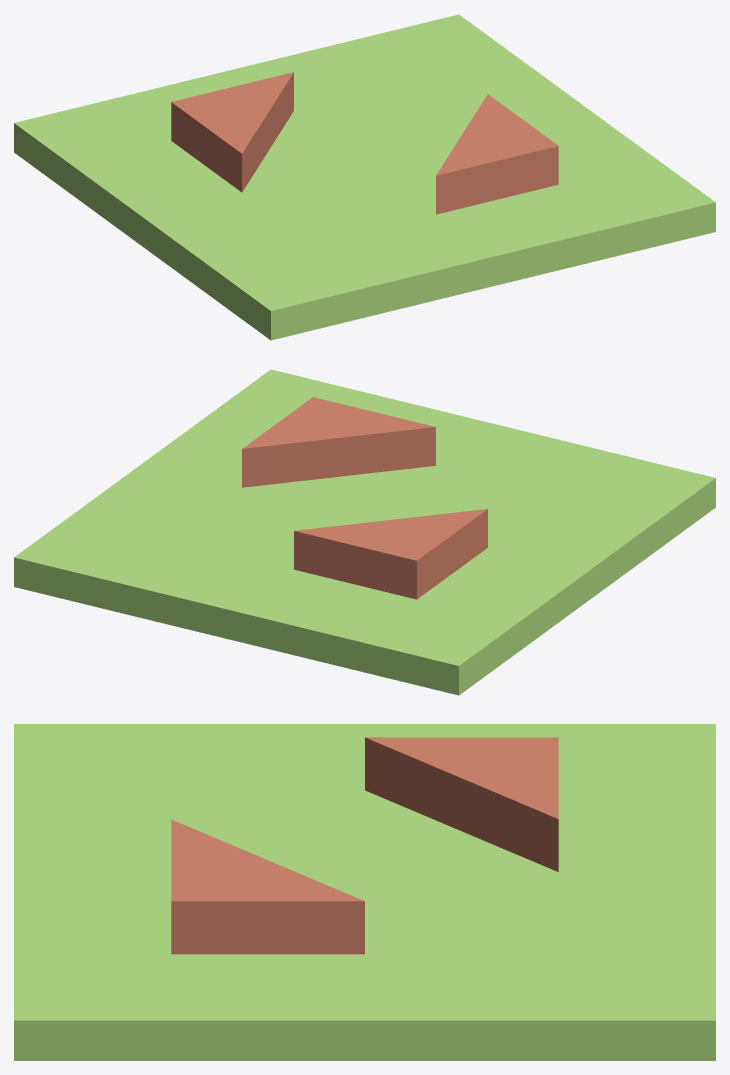
File: Obstacle_triangle_01.glb
3 views of the same model, one above another, from view 1: azimuth 30°, elevation 25°; view 2: azimuth 150°, elevation 25°; view 3: azimuth 270°, elevation 25° (orthographic). The views are drawn at different scales.
Visible parts, largest first — view 1: Mesh1 Obstacle_triangle Model; view 2: Mesh1 Obstacle_triangle Model; view 3: Mesh1 Obstacle_triangle Model.
Boxes of the visible parts, box(x1,y1,x2,y2) form: Mesh1 Obstacle_triangle Model: box(14, 14, 715, 340); Mesh1 Obstacle_triangle Model: box(14, 369, 715, 695); Mesh1 Obstacle_triangle Model: box(14, 724, 715, 1060).
Size of the model in its own units: 3 by 0.44 by 3.
